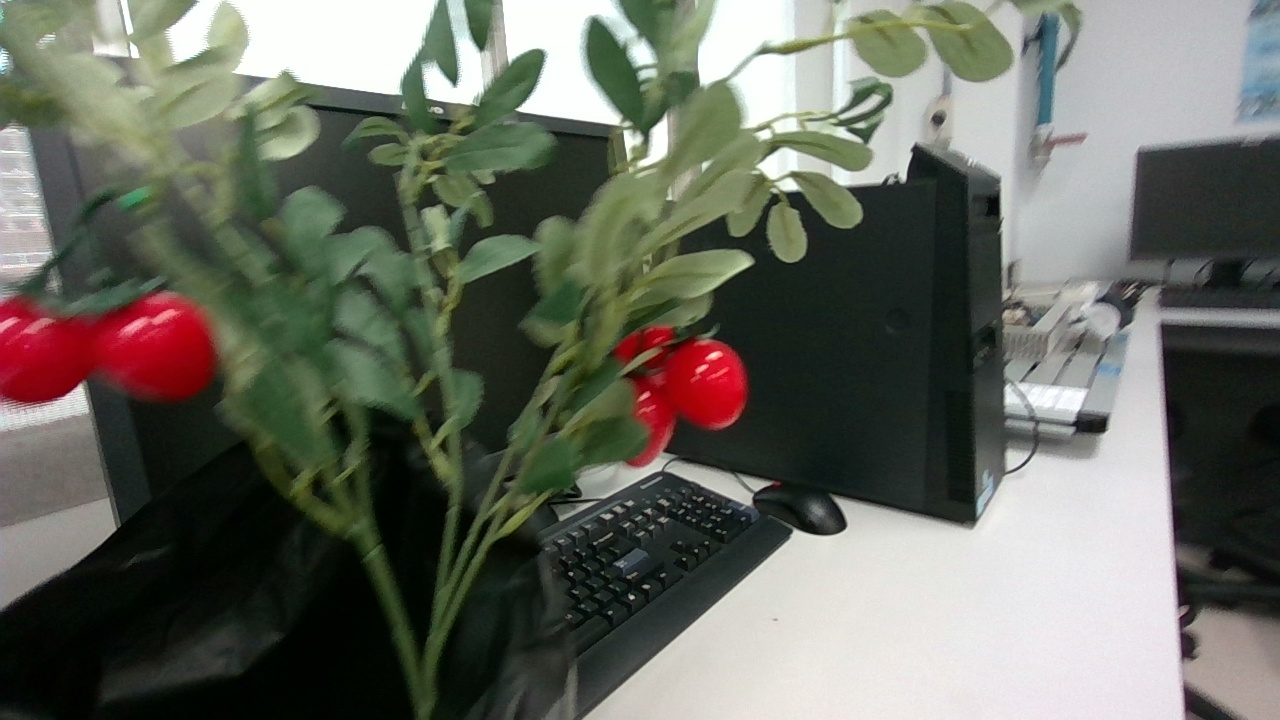strawberry: (90, 291, 213, 400), (0, 298, 91, 402), (665, 338, 749, 430), (627, 376, 677, 466)
